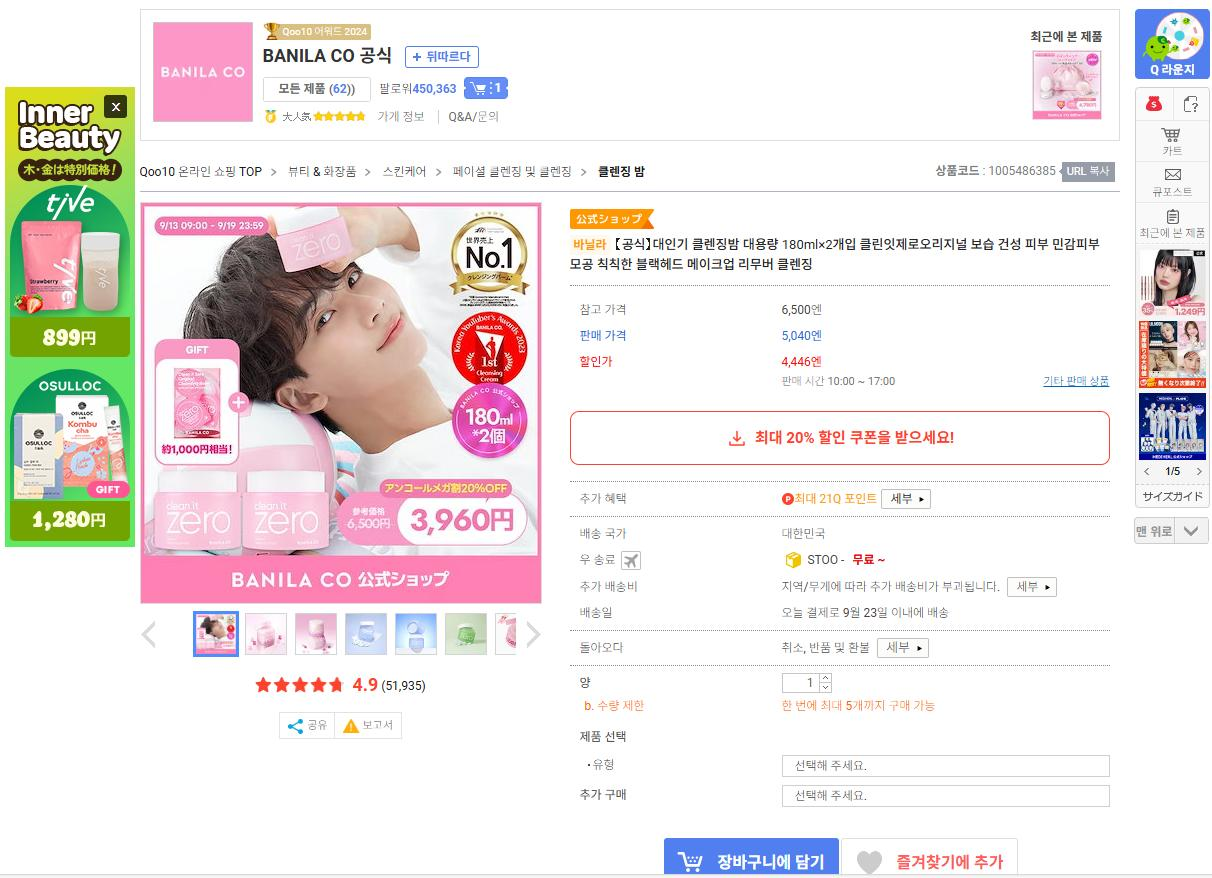button: (779, 748, 1113, 781), (777, 784, 1113, 810), (661, 838, 839, 878), (843, 838, 1014, 878), (259, 74, 371, 105), (1140, 200, 1210, 244), (1131, 514, 1212, 548), (401, 41, 489, 70), (1141, 122, 1206, 161), (1142, 165, 1212, 200), (876, 634, 942, 667), (1034, 369, 1117, 395), (345, 613, 390, 657), (1054, 155, 1117, 186), (338, 712, 401, 743), (193, 612, 237, 656), (277, 708, 333, 742), (293, 612, 338, 654), (444, 104, 512, 131), (395, 614, 439, 655), (1002, 575, 1071, 601), (244, 614, 287, 655), (880, 484, 940, 513), (447, 613, 486, 657), (460, 71, 517, 100), (130, 613, 170, 654), (371, 109, 429, 130), (1176, 86, 1210, 119), (1137, 87, 1172, 118), (523, 618, 550, 652), (1192, 463, 1212, 479), (1143, 463, 1157, 479)
checkbox: (775, 670, 839, 694)
popup: (5, 83, 134, 548), (561, 406, 1116, 472), (1127, 8, 1212, 84)
